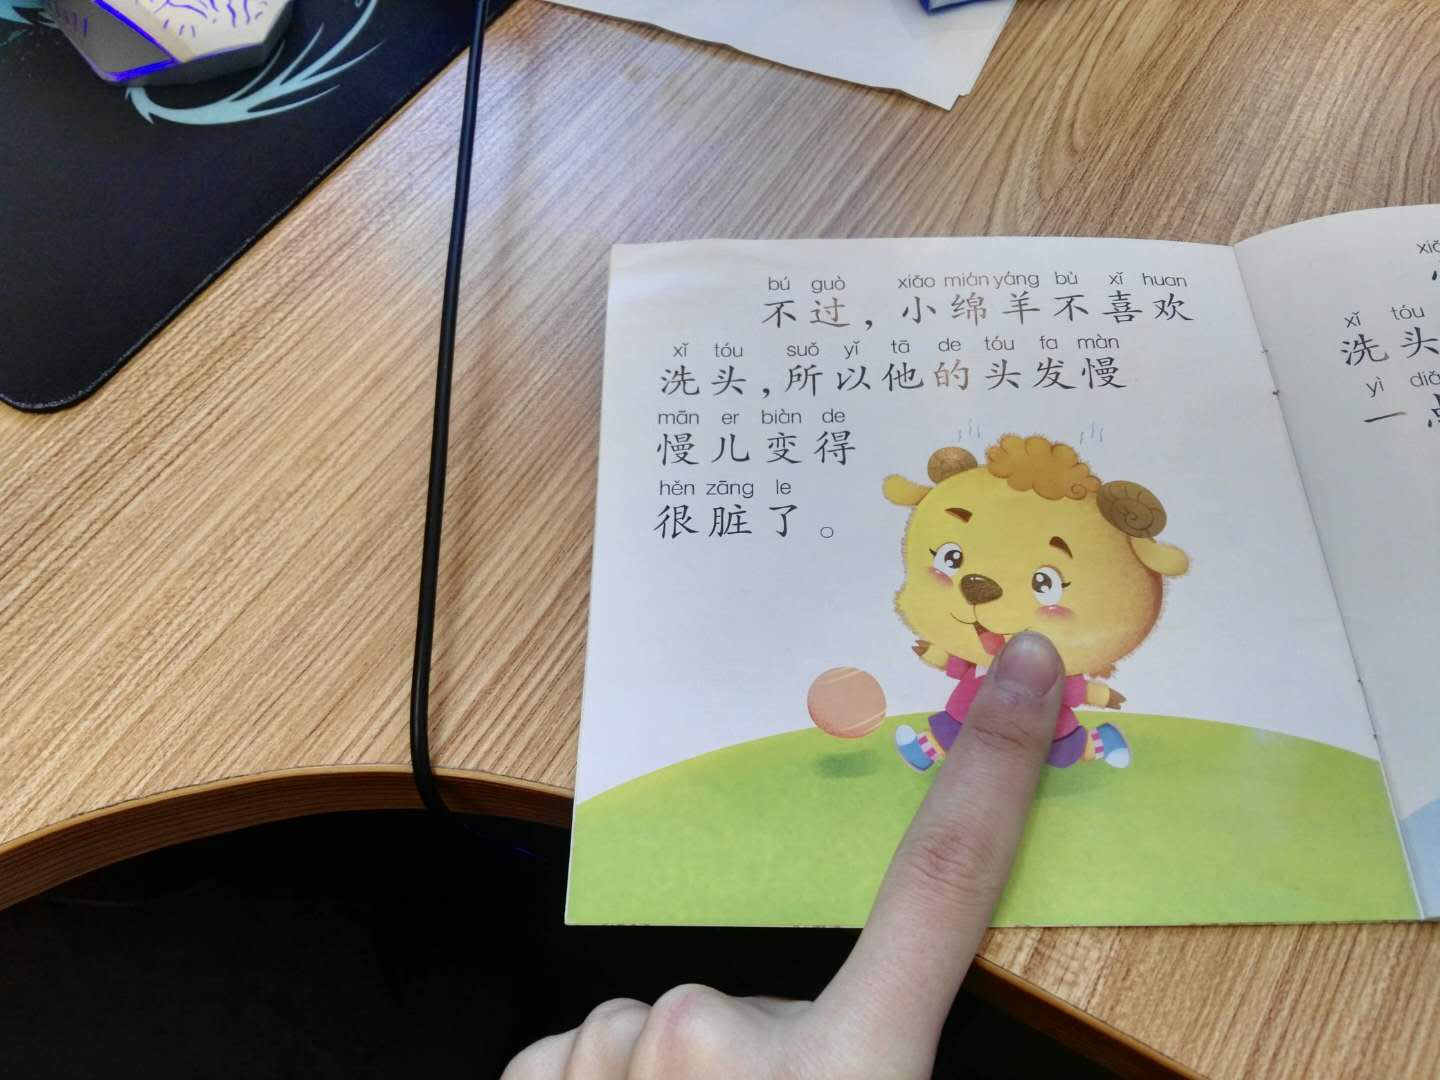finger: (929, 615, 1091, 835)
